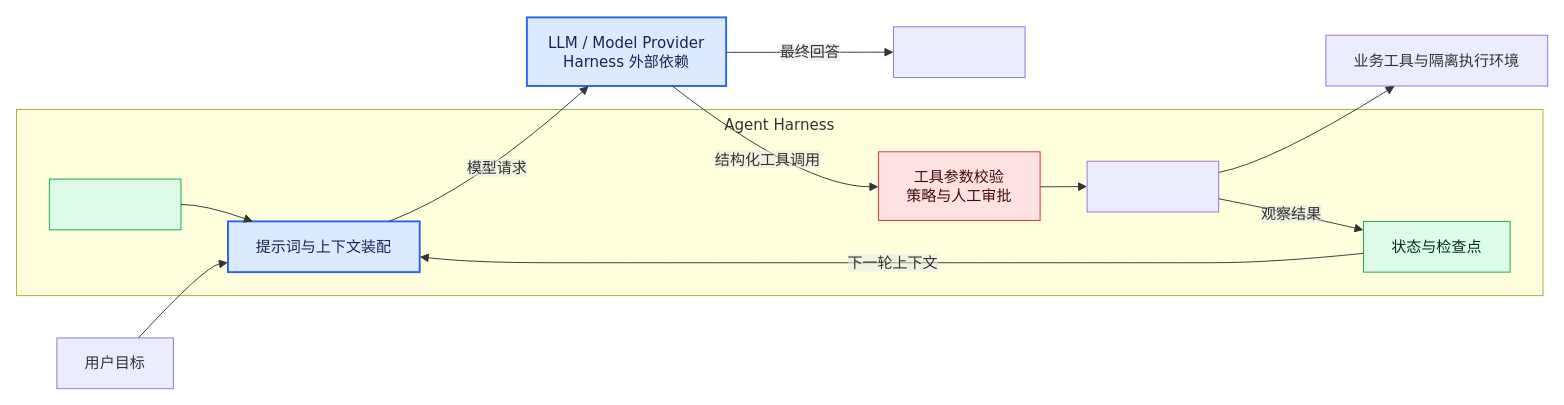
Image size: 1564x405. Some labels were removed from this diagram. The centre of each missing label's shape, as x and y in pixels:
"可验证结果" belongs at [959,52].
"工具运行时" belongs at [1152,186].
"记忆与技能" belongs at [114,204].
